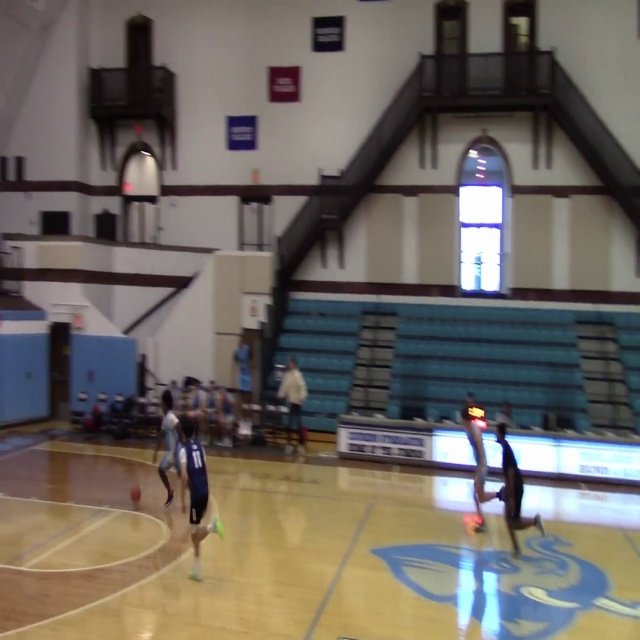Basketball: (463, 512, 484, 529), (473, 418, 488, 430), (130, 485, 141, 501)
